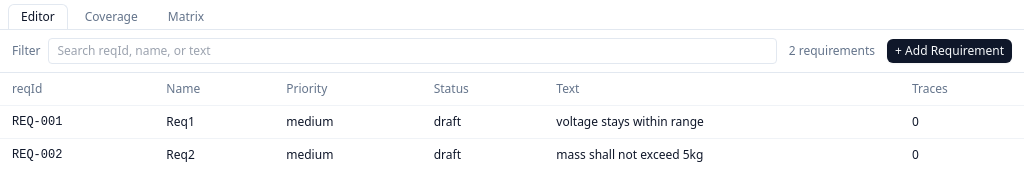
Test case: <RequirementsSurface /> › filters rows live as the user types into the filter input
In the search field with test id "requirements-surface-filter": {"x": 413, "y": 51} [48,38,777,64], type "voltage"
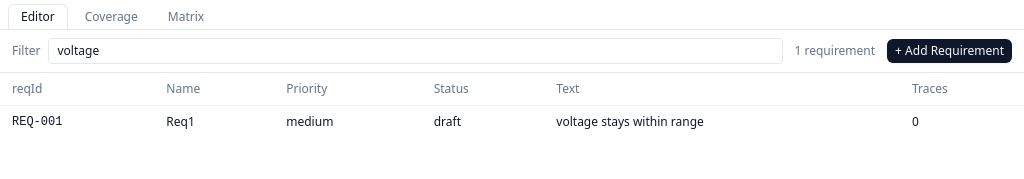
expect the text with test id "requirements-surface-count" reads "1 requirement": met, box [794,43,875,59]
